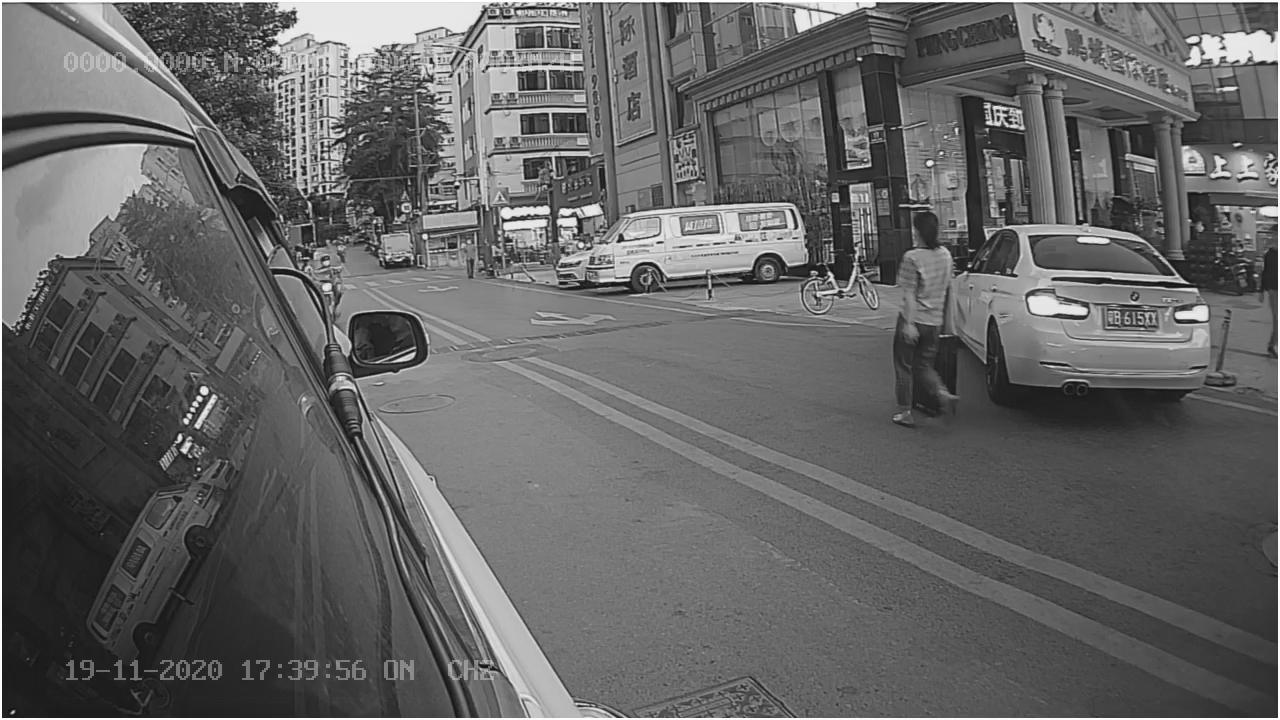person: (886, 215, 963, 432)
